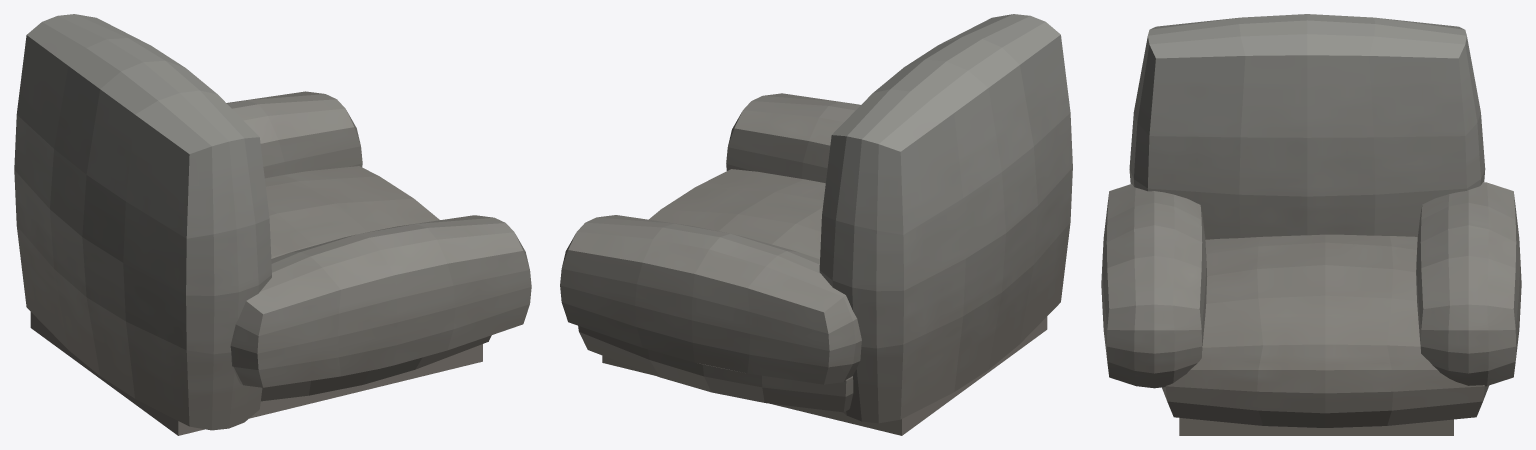
The model's file is CouchSmall.glb.
3 renders of one model, left to right at view 1: azimuth 30°, elevation 25°; view 2: azimuth 150°, elevation 25°; view 3: azimuth 270°, elevation 25°, orthographic. The views are drawn at different scales.
Visible parts, largest first — view 1: Short Couch_Baked; view 2: Short Couch_Baked; view 3: Short Couch_Baked.
Boxes of the visible parts, x1,y1,x2,y2 form: Short Couch_Baked: (14, 14, 531, 435); Short Couch_Baked: (560, 14, 1072, 435); Short Couch_Baked: (1101, 14, 1521, 435).
Bounding box in the file's own units: 5.29 × 4.53 × 5.8.
Materials: 1 (1 with a texture image).
